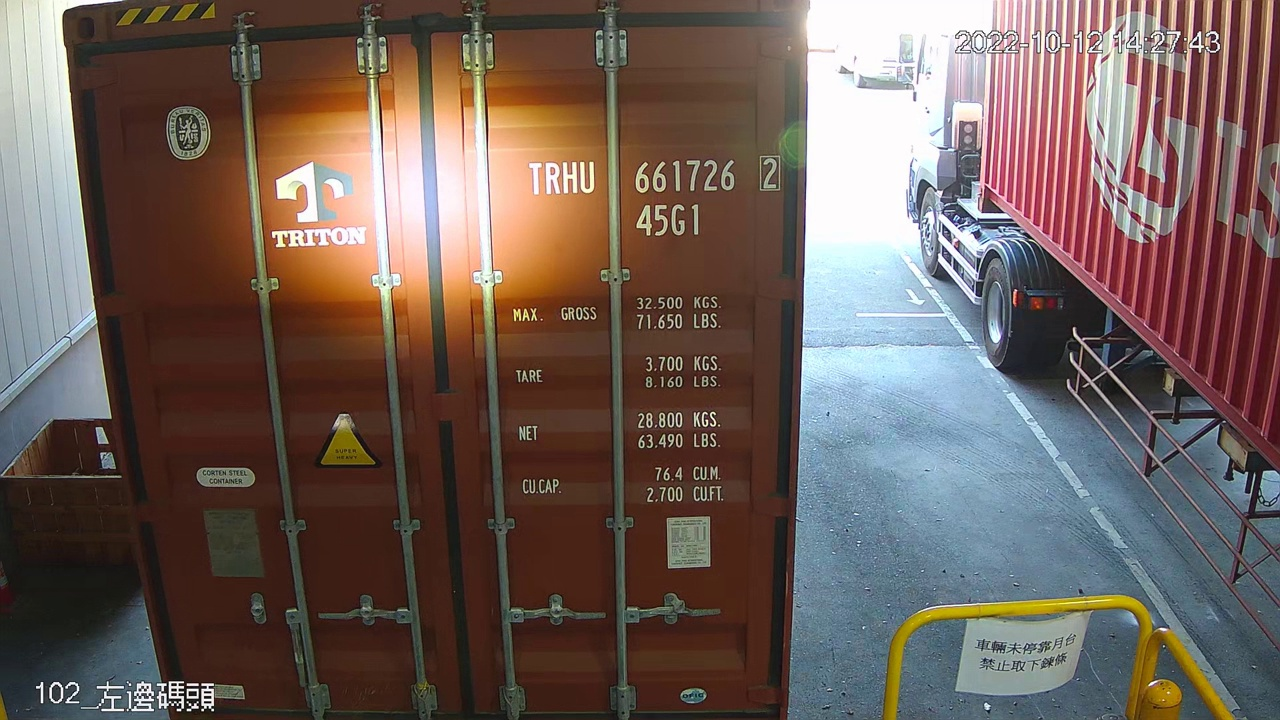container: (516, 149, 791, 245)
